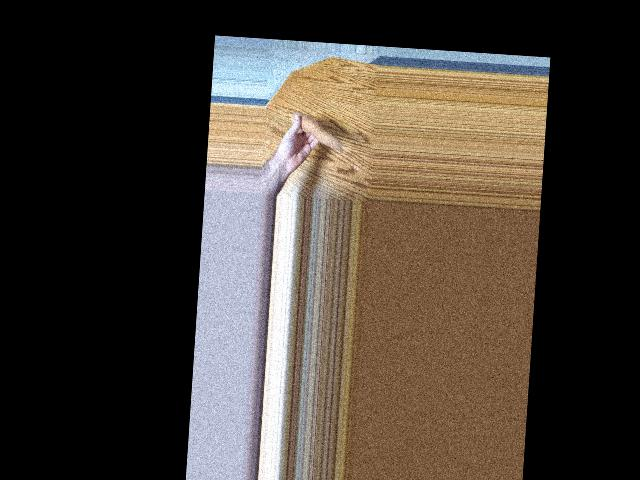sweet_potato: (287, 111, 343, 150)
